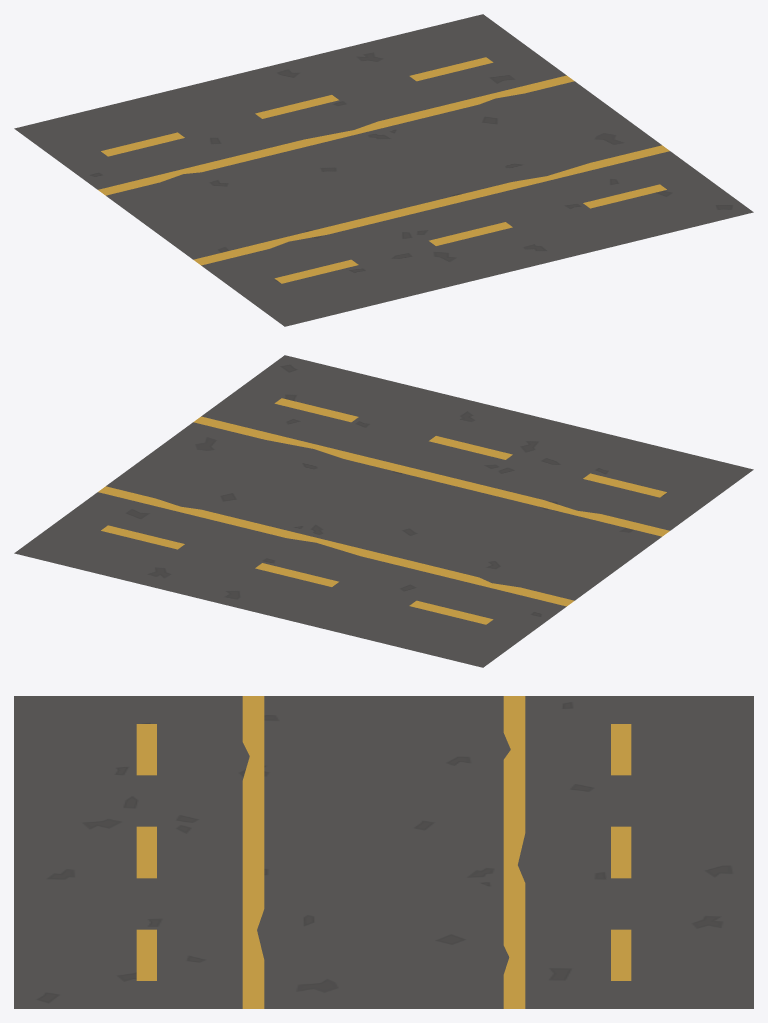
The model's file is SM_Env_Ground_Lines_Yellow_02.fbx.
3 renders of one model, top to bottom at view 1: azimuth 30°, elevation 25°; view 2: azimuth 150°, elevation 25°; view 3: azimuth 270°, elevation 25°, orthographic. The views are drawn at different scales.
Visible parts, largest first — view 1: SM_Env_Ground_Lines_Yellow_02; view 2: SM_Env_Ground_Lines_Yellow_02; view 3: SM_Env_Ground_Lines_Yellow_02.
Part boxes in pixels (box(x1,y1,x2,y2)): SM_Env_Ground_Lines_Yellow_02: box(14, 14, 753, 326); SM_Env_Ground_Lines_Yellow_02: box(14, 355, 753, 667); SM_Env_Ground_Lines_Yellow_02: box(14, 696, 753, 1008).
Size of the model in its own units: 1000 by 0 by 1000.
